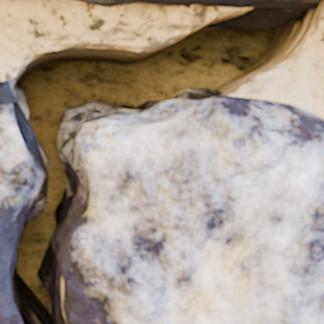brick: (78, 0, 319, 6)
broken_brick: (59, 95, 323, 323), (0, 80, 35, 323)
crack: (2, 0, 322, 323)
